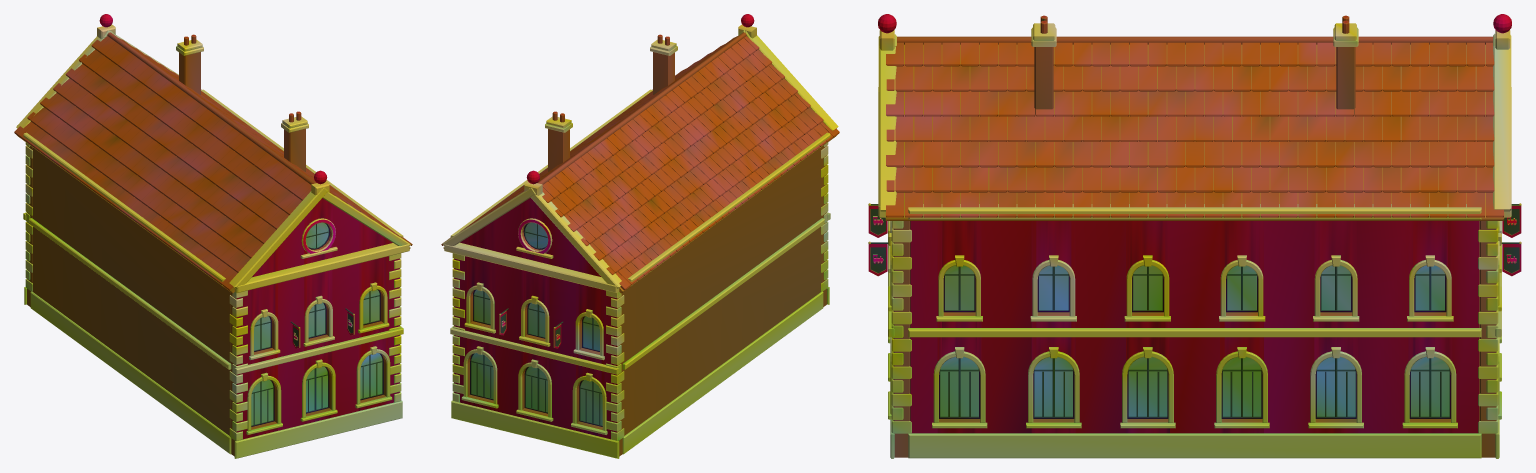
File: GS_Wing_Pavilion.fbx
3 renders of one model, left to right at view 1: azimuth 30°, elevation 25°; view 2: azimuth 150°, elevation 25°; view 3: azimuth 270°, elevation 25°, orthographic. The views are drawn at different scales.
Parts seen in each view (by area): view 1: GS_Wing_Pavilion; view 2: GS_Wing_Pavilion; view 3: GS_Wing_Pavilion.
Boxes of the visible parts, box(x1,y1,x2,y2) form: GS_Wing_Pavilion: box(14, 14, 412, 458); GS_Wing_Pavilion: box(441, 14, 839, 458); GS_Wing_Pavilion: box(868, 14, 1521, 458).
Size of the model in its own units: 10.11 by 14.68 by 21.66.
